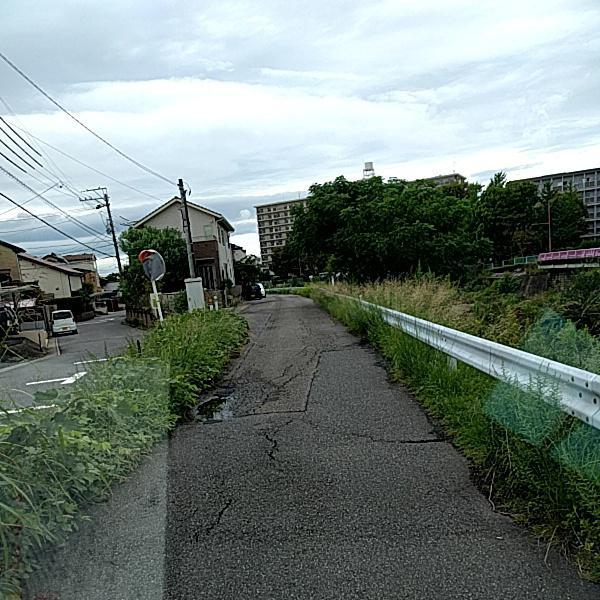D00: (187, 499, 234, 536), (259, 414, 286, 462)
D10: (346, 427, 447, 451)
D20: (211, 362, 291, 413)
